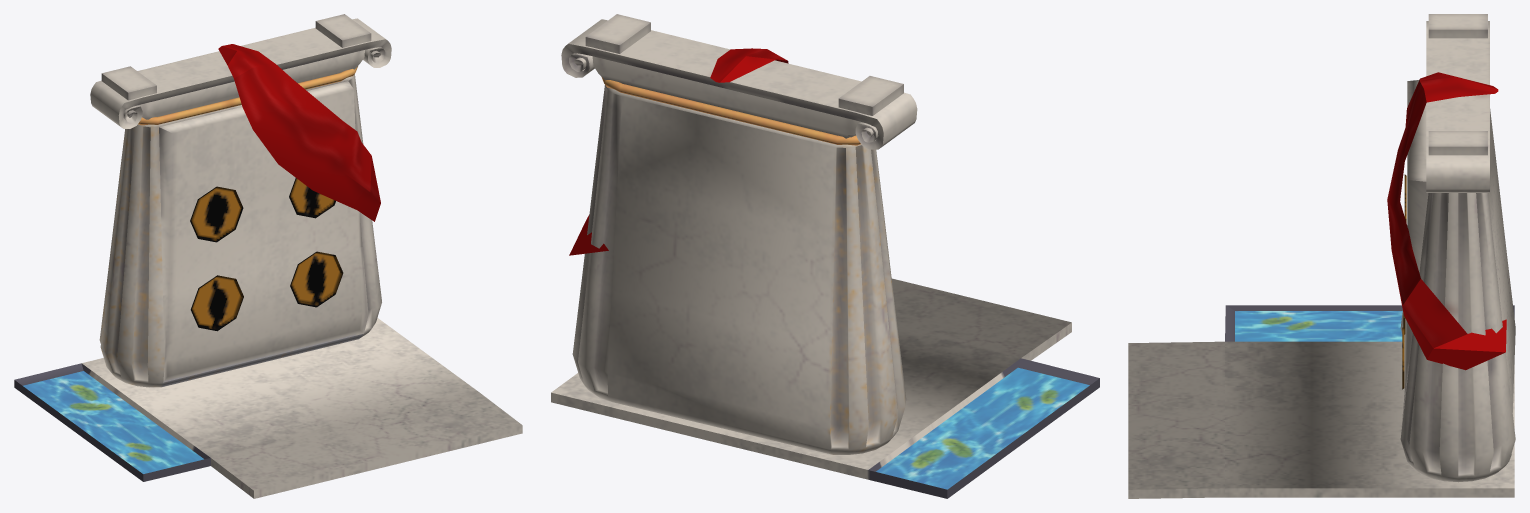
File: platsholder_fixed.fbx
3 renders of one model, left to right at view 1: azimuth 30°, elevation 25°; view 2: azimuth 150°, elevation 25°; view 3: azimuth 270°, elevation 25°, orthographic. The views are drawn at different scales.
Visible parts, largest first — view 1: plates_fixed; view 2: plates_fixed; view 3: plates_fixed.
Boxes of the visible parts, bbox=[...] form: plates_fixed: bbox=[14, 14, 522, 498]; plates_fixed: bbox=[551, 14, 1099, 498]; plates_fixed: bbox=[1128, 14, 1515, 498].
Size of the model in its own units: 395 by 345 by 350.
